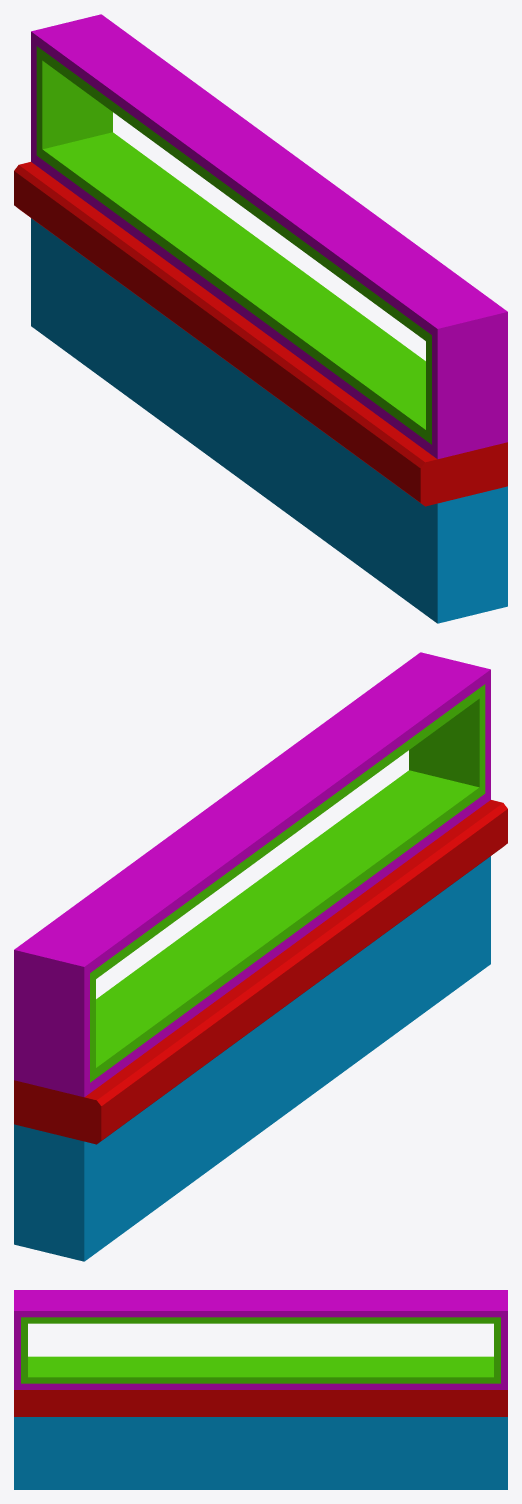
File: SM WallWindow A1 10X1 L3.fbx
The picture shows the model from 3 angles, top to bottom: view 1: azimuth 30°, elevation 25°; view 2: azimuth 150°, elevation 25°; view 3: azimuth 270°, elevation 25°; orthographic projection. The views are drawn at different scales.
Visible parts, largest first — view 1: SM WallWindow A1 10X1 L3; view 2: SM WallWindow A1 10X1 L3; view 3: SM WallWindow A1 10X1 L3.
Part boxes in pixels (left/top/right/bottom): SM WallWindow A1 10X1 L3: left=14, top=14, right=507, bottom=623; SM WallWindow A1 10X1 L3: left=14, top=652, right=507, bottom=1261; SM WallWindow A1 10X1 L3: left=14, top=1290, right=507, bottom=1489.
Size of the model in its own units: 1.24 by 4 by 10.
